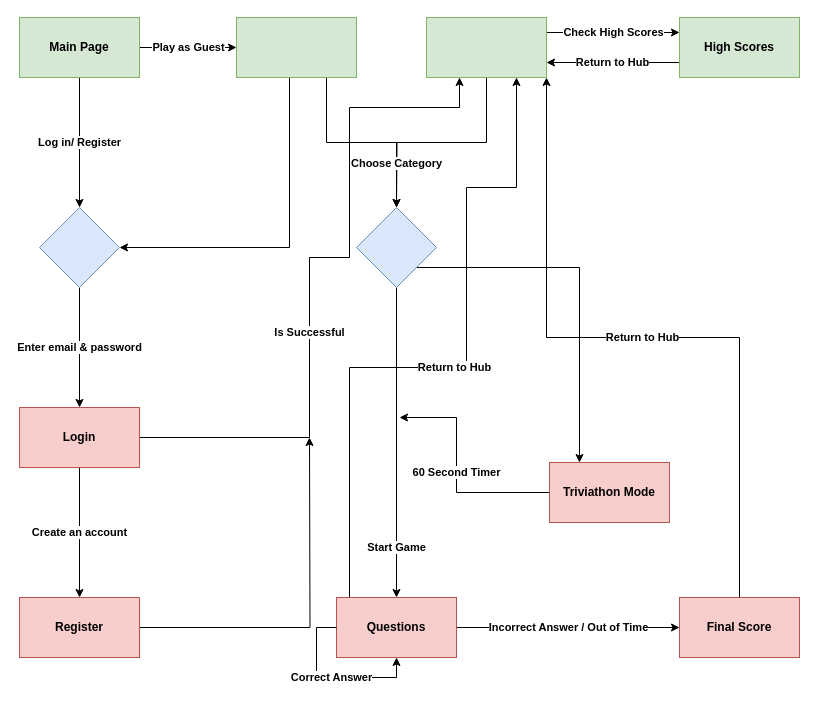
Image size: 817x703. Some labels were removed from this diagram. Here are the shapes that lost their labels. From the top down, the centre of each, then its label:
(296,47): Guest Main Hub
(486,47): Main Hub
(79,247): Login Nav
(396,247): Game Nav
